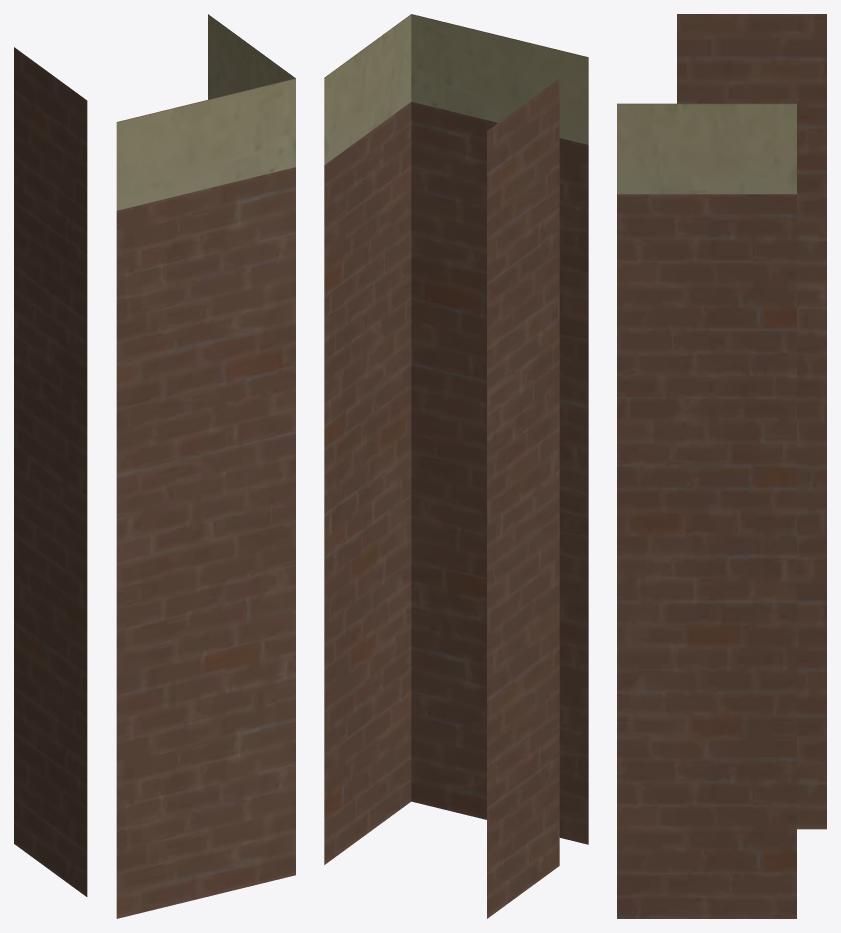
File: Brick_TopTrim_90Angle_L.glb
3 renders of one model, left to right at view 1: azimuth 30°, elevation 25°; view 2: azimuth 150°, elevation 25°; view 3: azimuth 270°, elevation 25°, orthographic. The views are drawn at different scales.
Visible parts, largest first — view 1: Brick_TopTrim_90Angle_L; view 2: Brick_TopTrim_90Angle_L; view 3: Brick_TopTrim_90Angle_L.
Boxes of the visible parts, x1,y1,x2,y2 form: Brick_TopTrim_90Angle_L: (14,14,295,918); Brick_TopTrim_90Angle_L: (324,14,588,918); Brick_TopTrim_90Angle_L: (617,14,826,918).
Bounding box in the file's own units: 0.7061 × 3 × 0.6999.
Materials: 2 (2 with a texture image).
